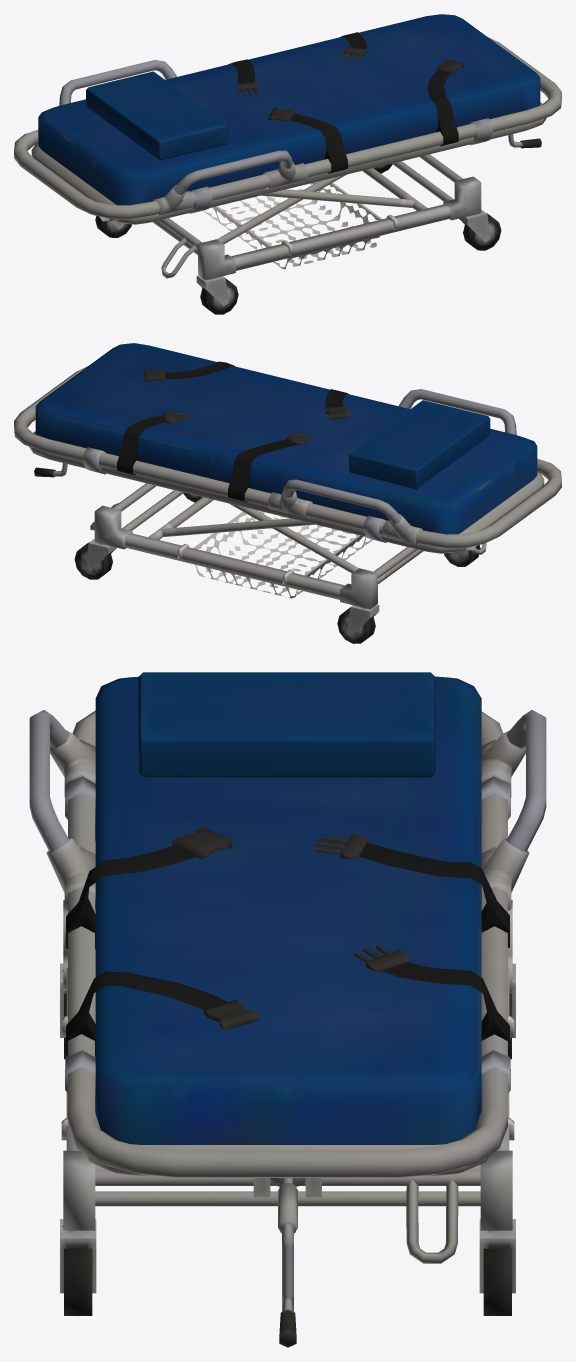
3 renders of one model, top to bottom at view 1: azimuth 30°, elevation 25°; view 2: azimuth 150°, elevation 25°; view 3: azimuth 270°, elevation 25°, orthographic. The views are drawn at different scales.
Size of the model in its own units: 19.41 by 6.45 by 8.83.
1 material, 1 textured.
